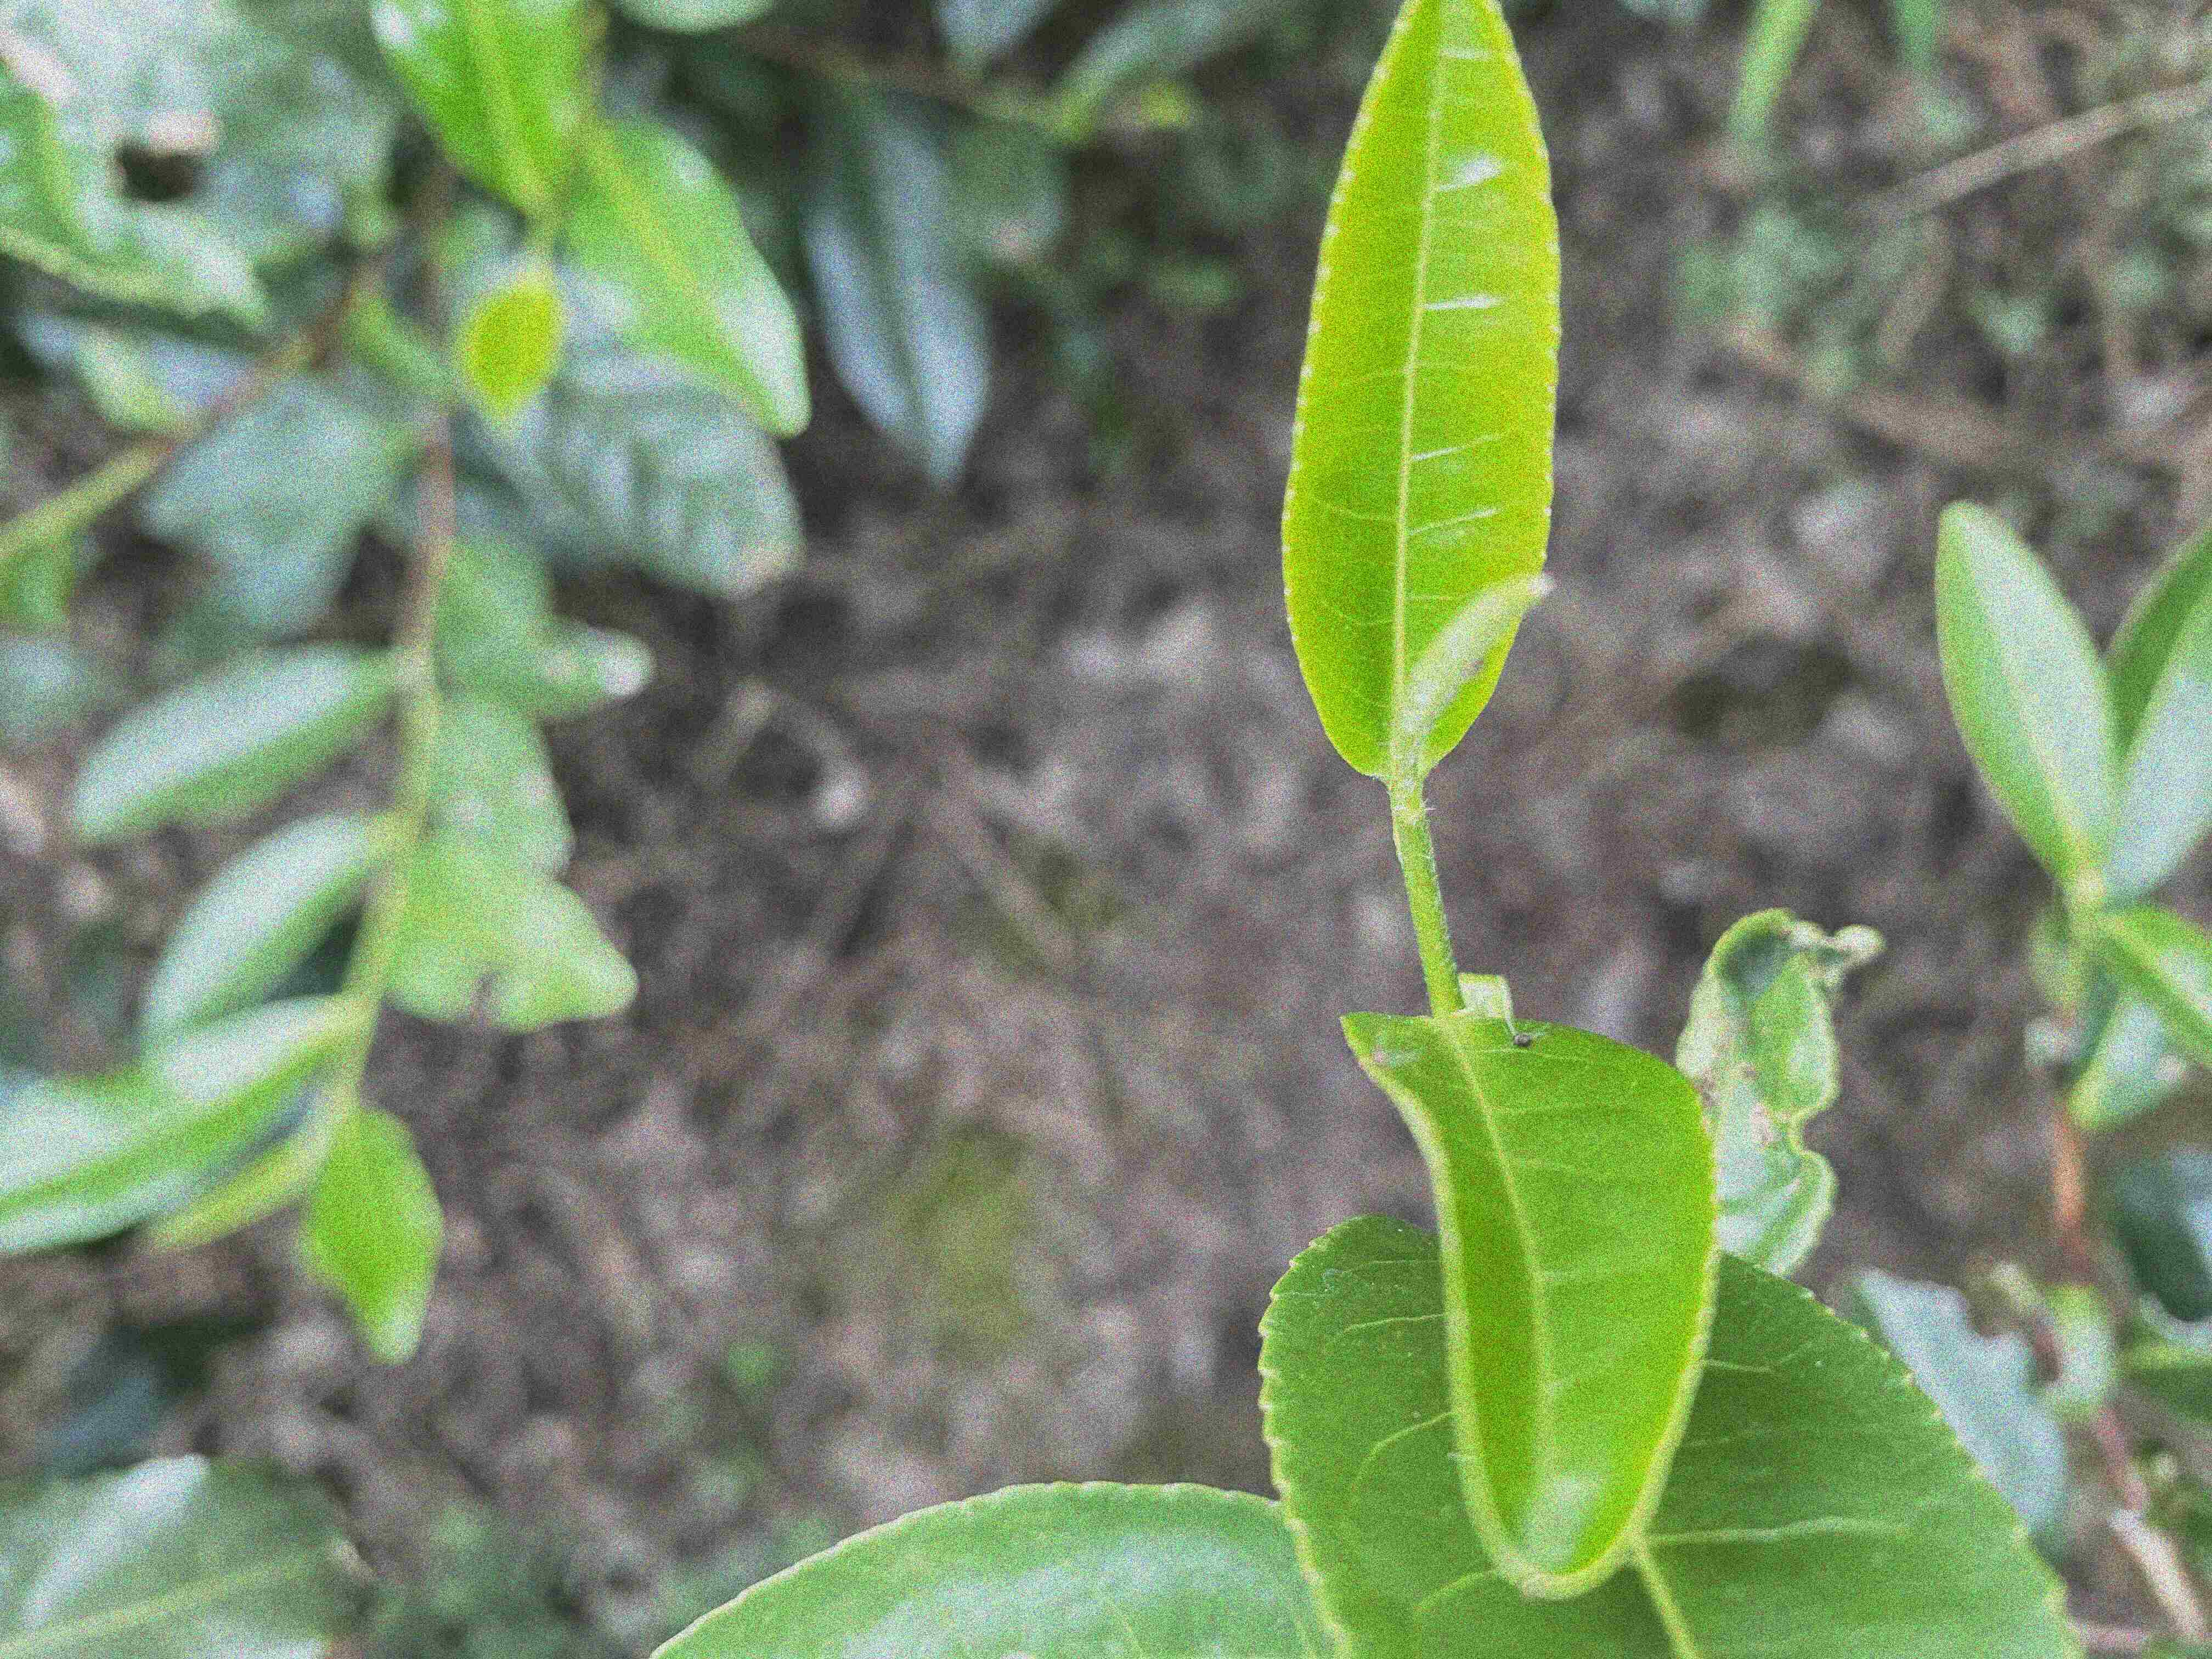healthy: (1273, 7, 1566, 784), (1338, 1012, 1716, 1588)
